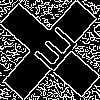E: (25, 25, 80, 81)
